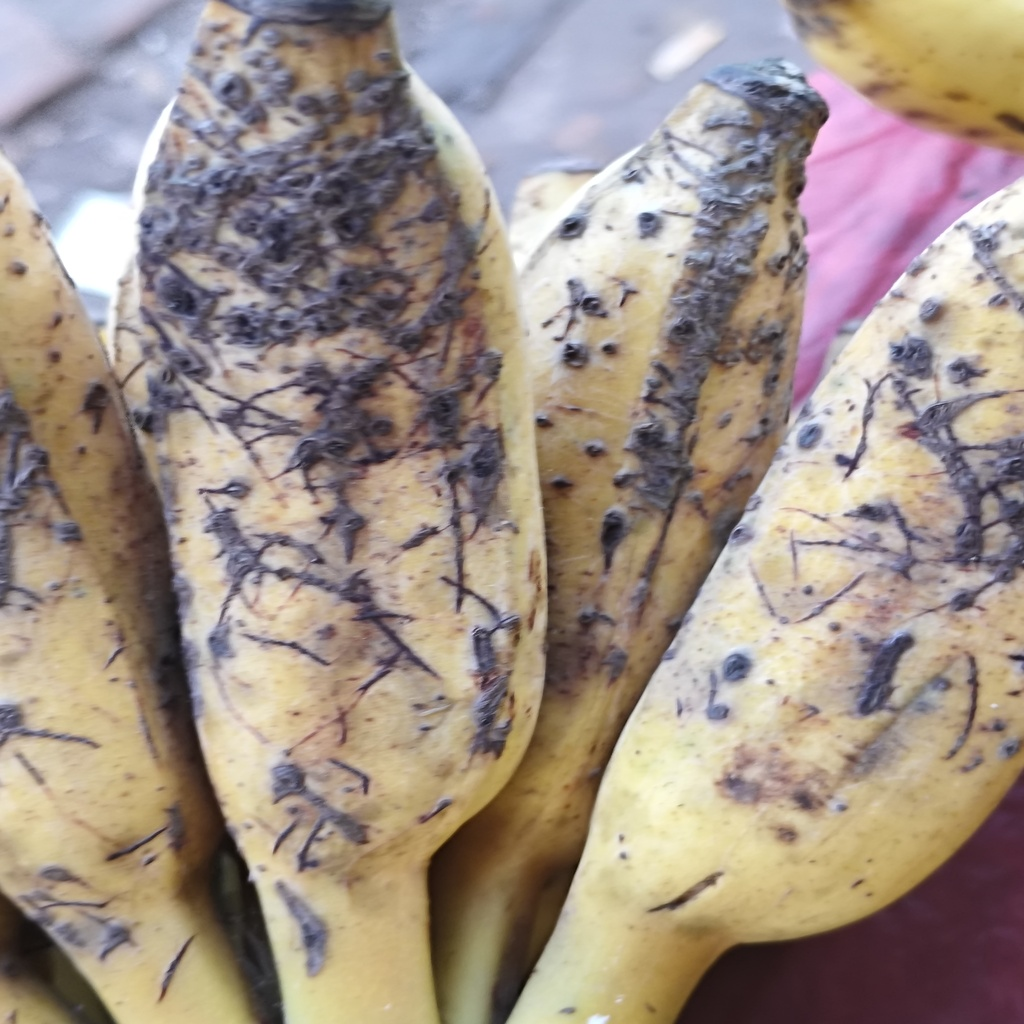unhealthy: (137, 15, 551, 908), (483, 64, 812, 895)
